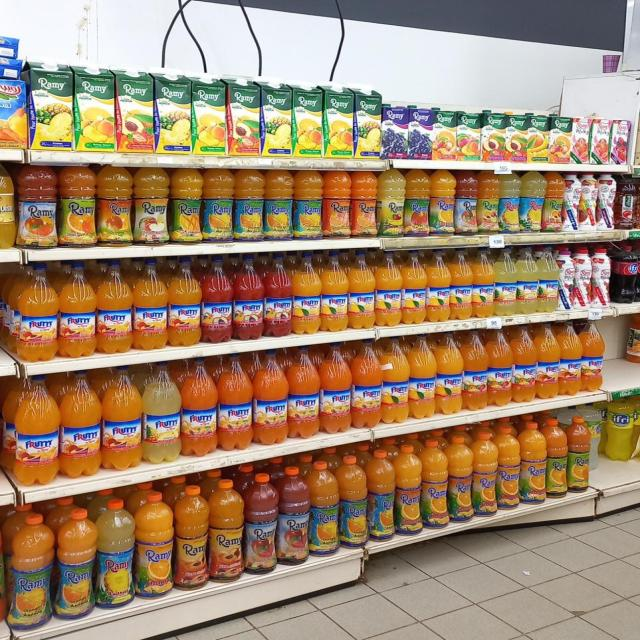ifri_plastique: (604, 395, 636, 462), (593, 399, 610, 460)
ramy_carton: (70, 64, 116, 152), (110, 66, 154, 152), (150, 70, 194, 154), (186, 74, 226, 156), (32, 72, 74, 148), (224, 77, 262, 157), (287, 82, 324, 158), (258, 81, 294, 157), (348, 86, 382, 160), (320, 85, 354, 158), (457, 111, 485, 162), (410, 104, 436, 158), (483, 112, 510, 163), (432, 110, 458, 162), (382, 105, 408, 157), (505, 113, 532, 163), (526, 114, 552, 163), (548, 115, 574, 163), (587, 118, 611, 164), (569, 118, 592, 164), (608, 119, 631, 165)
ramy_plastique: (6, 513, 56, 630), (12, 374, 61, 488), (54, 509, 98, 621), (92, 499, 136, 610), (58, 371, 102, 480), (132, 492, 174, 599), (100, 368, 142, 472), (171, 485, 210, 590), (207, 479, 246, 582), (141, 364, 181, 464), (16, 266, 59, 359), (14, 163, 58, 252), (241, 470, 278, 574), (179, 358, 218, 456), (58, 264, 98, 355), (95, 260, 134, 352), (276, 466, 312, 565), (217, 355, 254, 450), (57, 163, 97, 249), (306, 458, 341, 554), (252, 352, 288, 444), (285, 346, 320, 438), (95, 164, 133, 248), (132, 261, 169, 347), (335, 453, 368, 548), (132, 166, 170, 247), (319, 342, 352, 434), (166, 258, 201, 344), (351, 340, 384, 428), (392, 443, 422, 536), (198, 257, 232, 339), (169, 167, 204, 246), (419, 438, 449, 529), (379, 336, 410, 424), (469, 432, 499, 522), (233, 256, 265, 338), (432, 332, 463, 416), (202, 167, 235, 245), (518, 420, 547, 508), (459, 328, 490, 410), (290, 254, 322, 332), (494, 425, 522, 514), (233, 168, 265, 245), (319, 252, 350, 331), (263, 256, 294, 334), (483, 328, 513, 407), (541, 417, 569, 500), (263, 168, 294, 242), (292, 169, 323, 242), (348, 252, 377, 330), (322, 168, 352, 240), (510, 325, 538, 402), (374, 250, 402, 326), (400, 249, 427, 325), (424, 246, 451, 321), (565, 416, 591, 493), (376, 168, 405, 236), (556, 321, 584, 391), (535, 323, 561, 398), (447, 244, 473, 318), (429, 168, 456, 239), (350, 170, 378, 238), (404, 168, 431, 238), (518, 169, 546, 235), (579, 318, 606, 386), (476, 168, 502, 236), (496, 169, 521, 237), (454, 169, 479, 236), (492, 249, 518, 312), (515, 247, 541, 310), (536, 246, 562, 308), (542, 170, 567, 234), (472, 247, 495, 315), (588, 244, 612, 305), (570, 246, 594, 306), (555, 248, 578, 306), (578, 173, 600, 231), (595, 173, 616, 230), (561, 174, 582, 231)
rouiba_carton: (1, 77, 28, 149)
